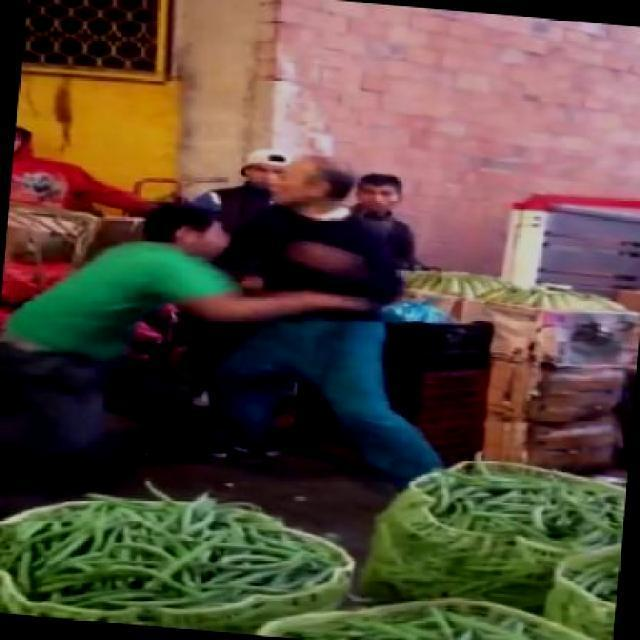fight: (0, 126, 442, 494)
